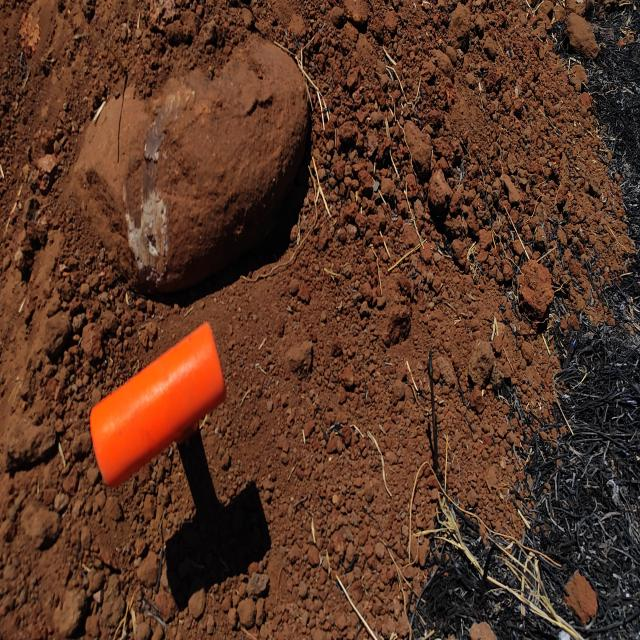Orange_hammer: (89, 320, 227, 489)
rock: (68, 34, 313, 300), (373, 279, 416, 357), (563, 5, 604, 78), (560, 569, 603, 637), (19, 488, 64, 548), (51, 585, 88, 638), (516, 260, 549, 318), (284, 334, 316, 387), (34, 147, 58, 194)
